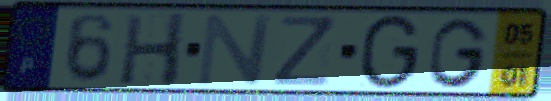6: (64, 12, 116, 85)
G: (355, 12, 424, 92), (426, 15, 491, 90)
H: (116, 11, 190, 89)
N: (193, 12, 277, 88)
Z: (271, 14, 337, 89)
